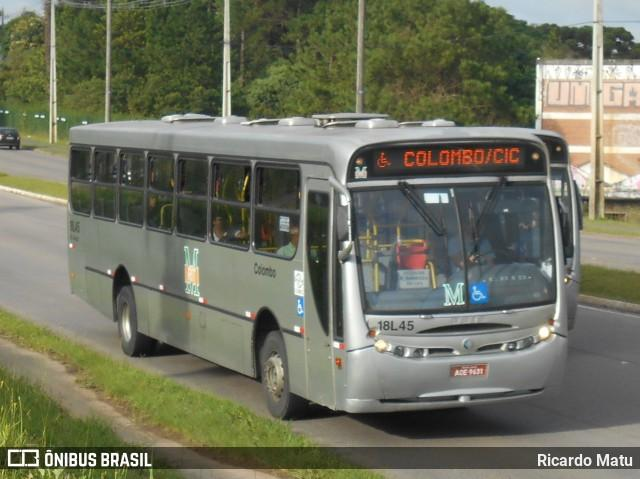COLOMBO CIC: (402, 146, 522, 169)
